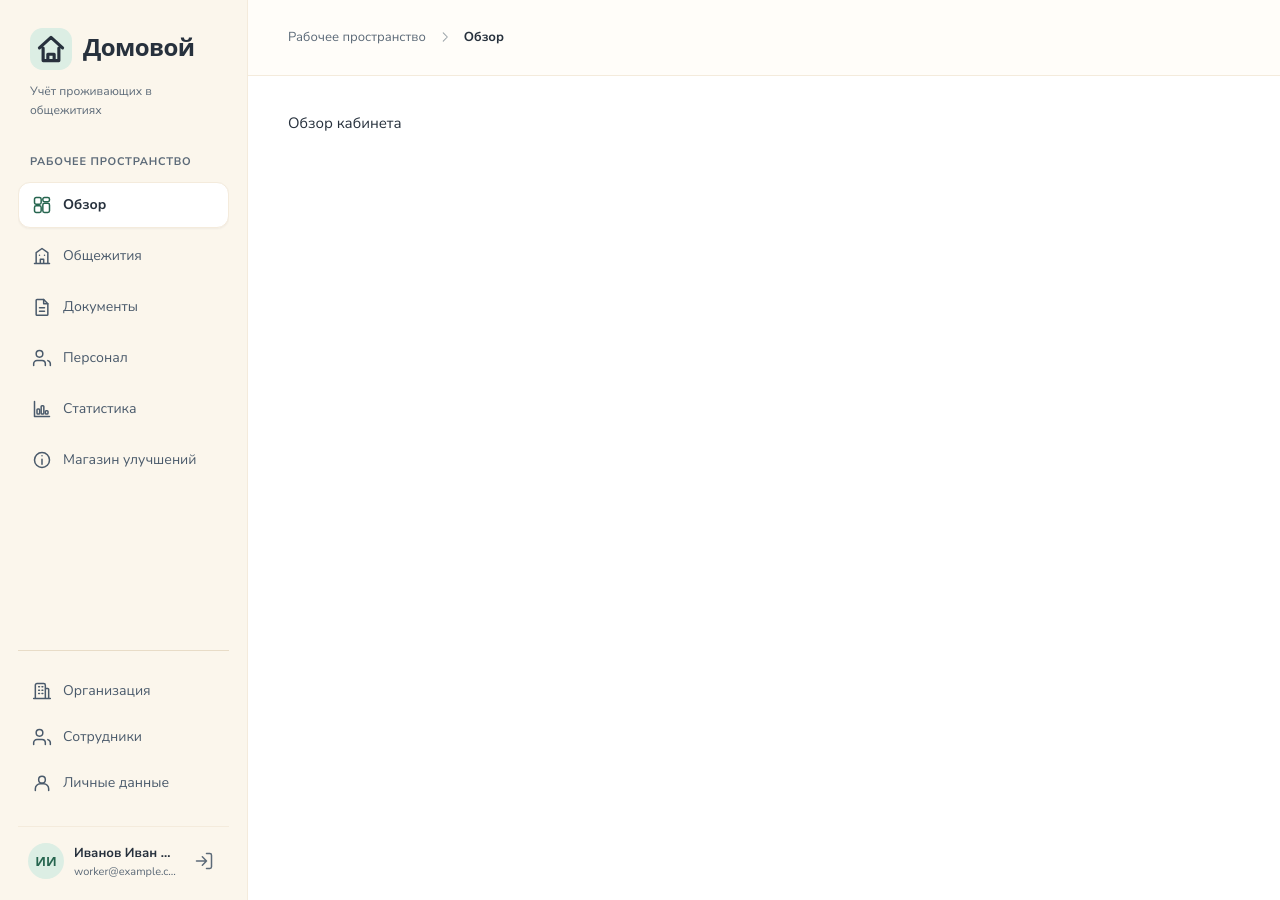
Test: пункт меню «Уведомления» › «Магазин улучшений» есть всегда и ведёт на свой адрес
The image size is (1280, 900).
Click the link with test id "workspace-nav-shop": (114, 460) [32,450,196,470]
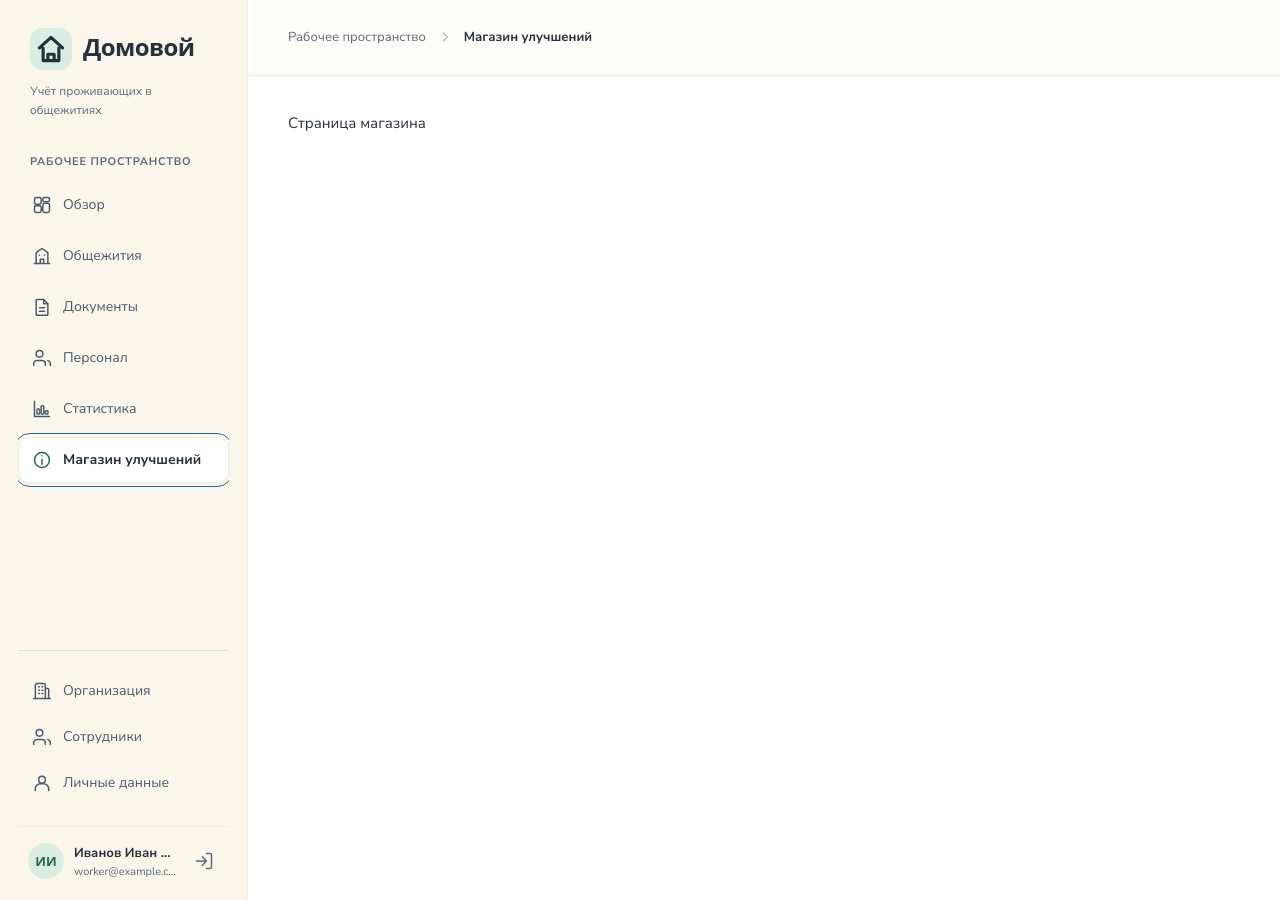
Now the text "Страница магазина" is shown, box [288,113,426,133]
